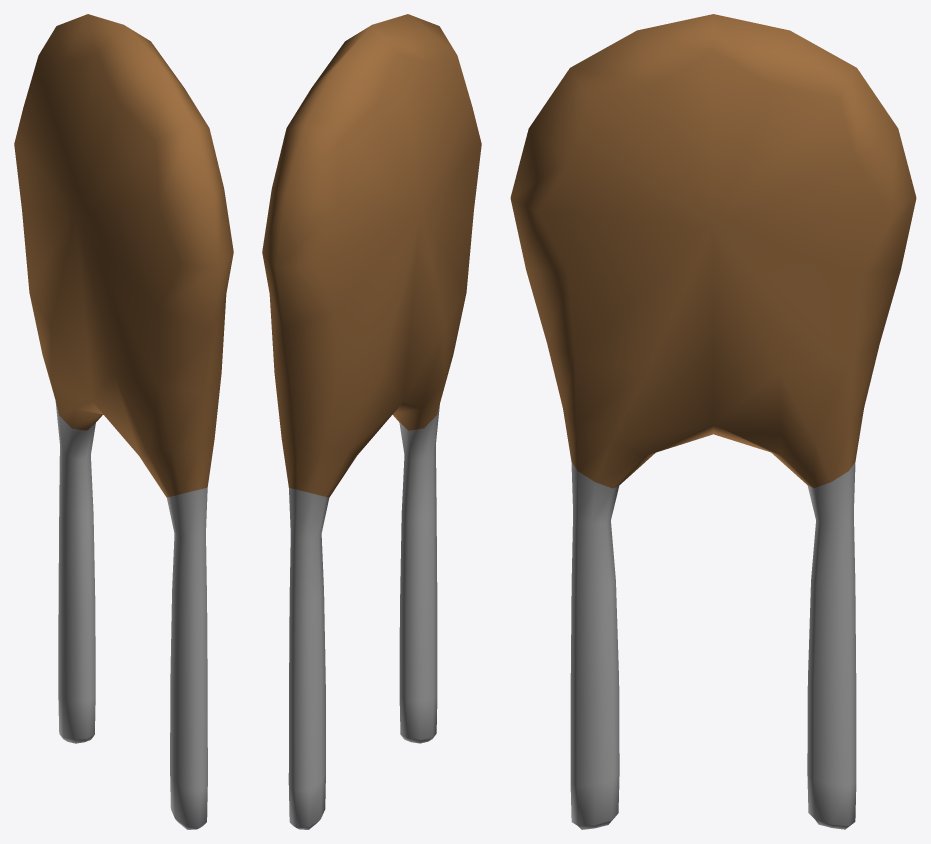
Rendered from capacitor.fbx.
The picture shows the model from 3 angles, left to right: view 1: azimuth 30°, elevation 25°; view 2: azimuth 150°, elevation 25°; view 3: azimuth 270°, elevation 25°; orthographic projection. The views are drawn at different scales.
Visible parts, largest first — view 1: Capaciter; view 2: Capaciter; view 3: Capaciter.
Boxes of the visible parts, x1,y1,x2,y2 form: Capaciter: (14,14,233,829); Capaciter: (262,14,481,829); Capaciter: (510,14,916,829).
Size of the model in its own units: 11.15 by 37.91 by 83.19.
